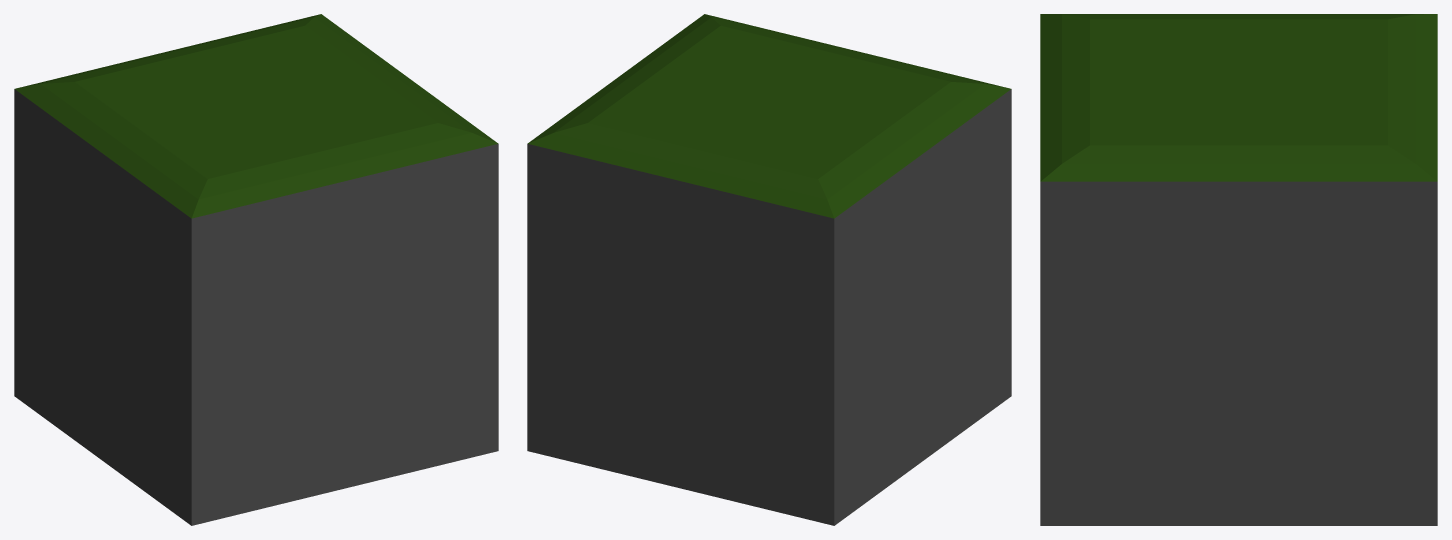
Rendered from Floor perfect.fbx.
3 views of the same model, side by side, from view 1: azimuth 30°, elevation 25°; view 2: azimuth 150°, elevation 25°; view 3: azimuth 270°, elevation 25° (orthographic). The views are drawn at different scales.
Visible parts, largest first — view 1: Floor perfect; view 2: Floor perfect; view 3: Floor perfect.
Part boxes in pixels (left/top/right/bottom): Floor perfect: left=14, top=14, right=498, bottom=525; Floor perfect: left=527, top=14, right=1011, bottom=525; Floor perfect: left=1040, top=14, right=1437, bottom=525.
Bounding box in the file's own units: 100 × 100 × 100.
